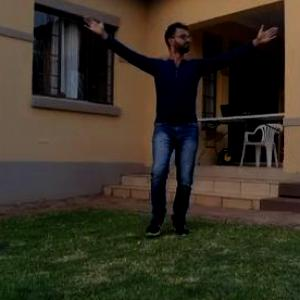takeoff: (73, 5, 273, 224)
